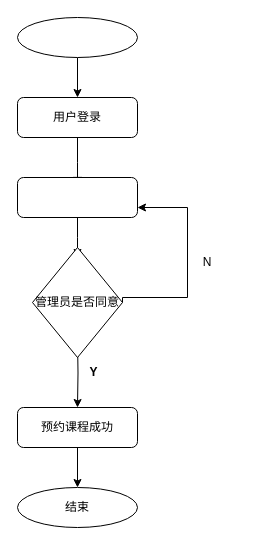
Image size: 255x545. Some labels were removed from this diagram. The centre of each missing label's shape, as x and y in pixels:
"开始" goes at [77,37].
"课程预约" goes at [77,197].
